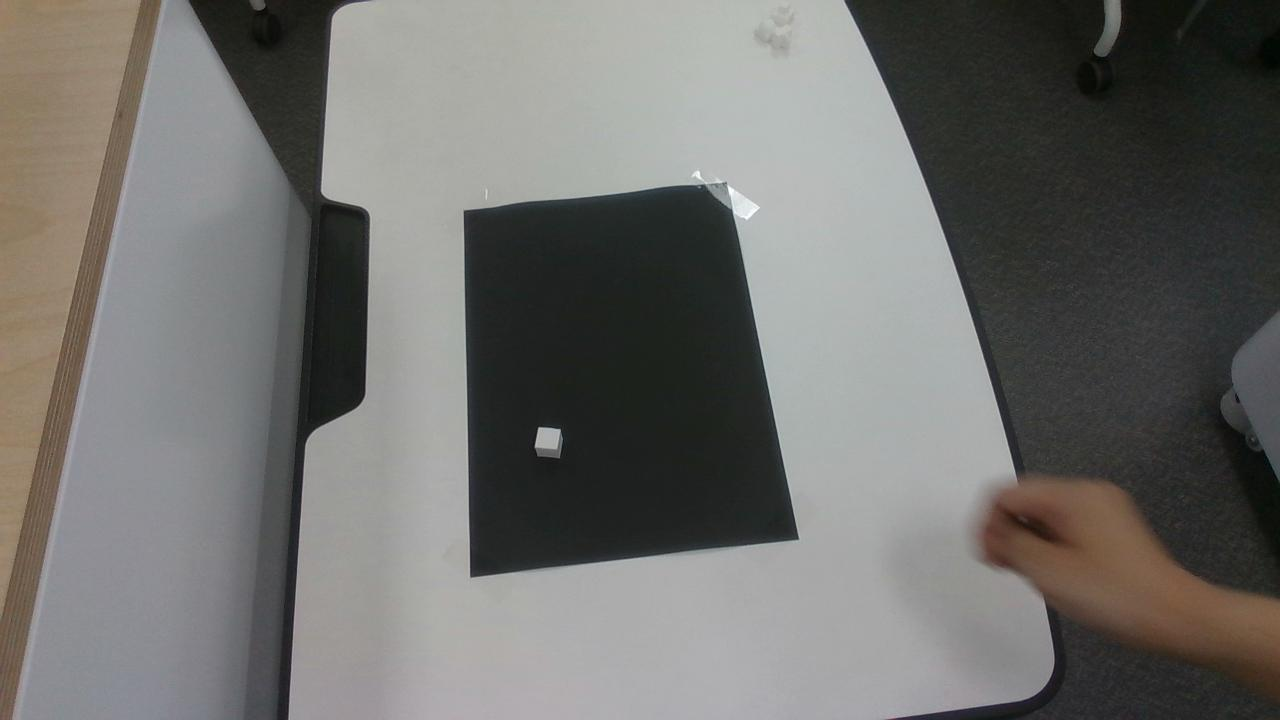cube: (534, 427, 561, 458)
